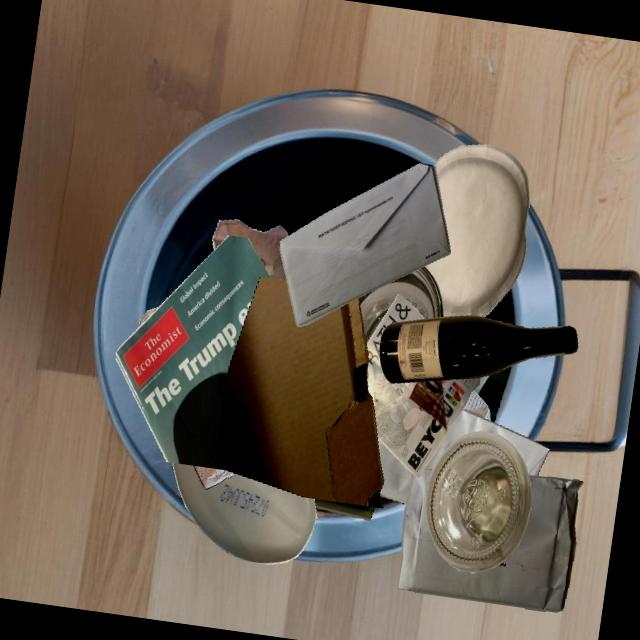cardboard: (215, 277, 384, 509)
glass: (425, 431, 531, 573), (379, 316, 578, 383), (358, 266, 443, 344), (477, 371, 508, 423), (314, 499, 374, 521), (138, 306, 160, 329)
paper: (115, 235, 270, 470), (280, 163, 451, 327), (397, 469, 583, 612), (366, 294, 480, 478), (424, 145, 530, 317), (382, 392, 537, 496), (424, 409, 550, 476), (212, 220, 288, 281), (377, 438, 412, 504), (194, 466, 236, 489), (473, 375, 490, 394)
plastic: (173, 463, 317, 564)
